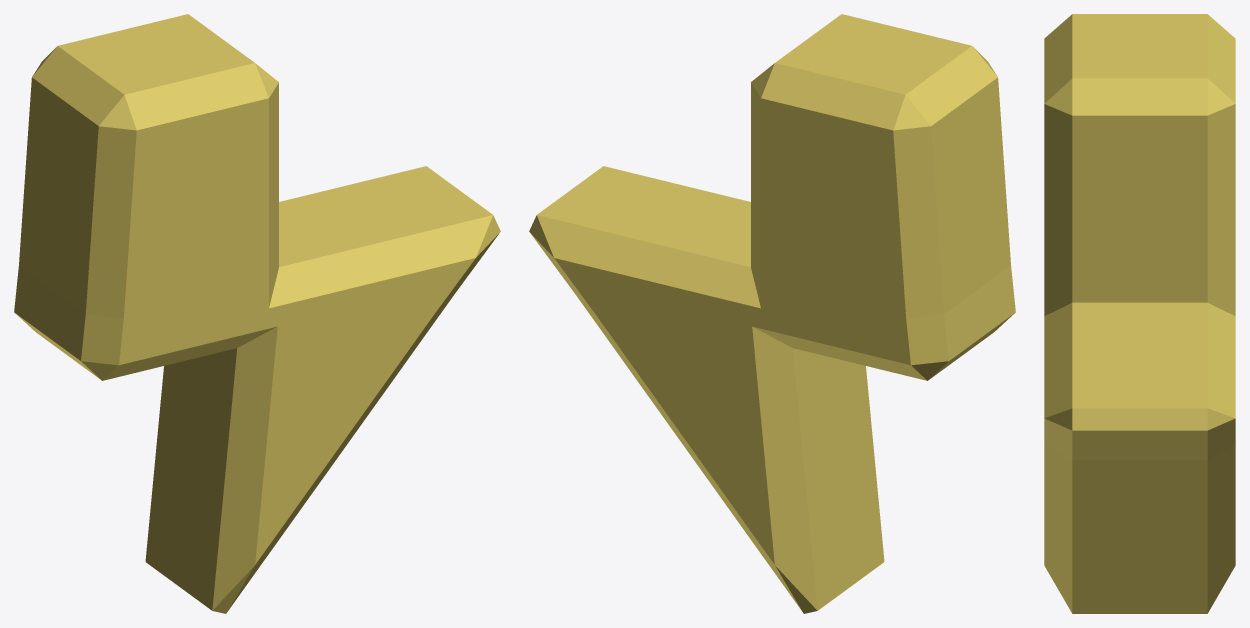
Rendered from Lightning_Bolt.fbx.
3 views of the same model, side by side, from view 1: azimuth 30°, elevation 25°; view 2: azimuth 150°, elevation 25°; view 3: azimuth 270°, elevation 25° (orthographic).
Visible parts, largest first — view 1: Cube; view 2: Cube; view 3: Cube.
Boxes of the visible parts, <box> form: Cube: <box>14,14,500,613</box>; Cube: <box>529,14,1015,613</box>; Cube: <box>1044,14,1235,613</box>.
Size of the model in its own units: 418 by 518 by 163.
